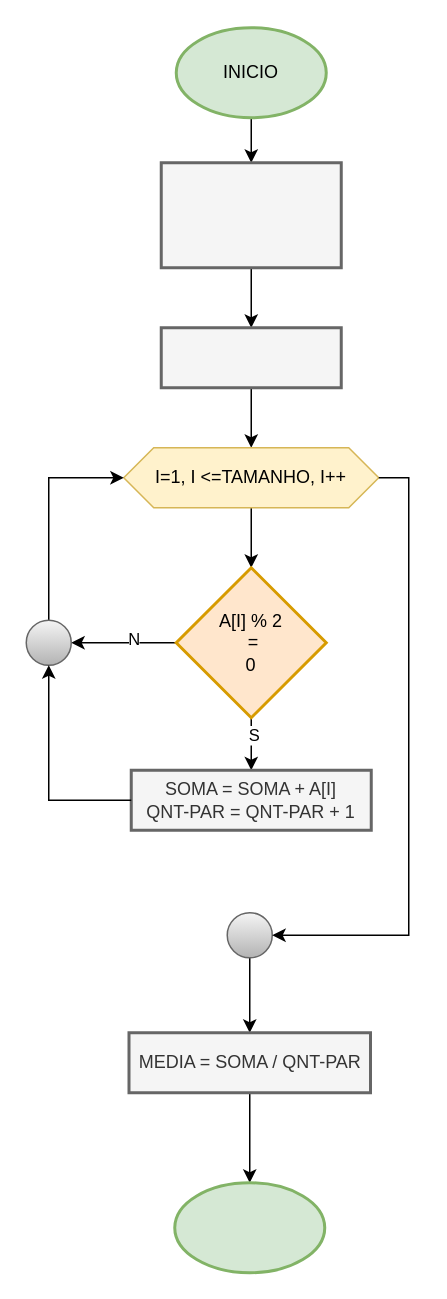
This 447x1299 diagram has some shape labels left out. The centre of each missing label's shape, as x and y in pixels:
"A[1, 4, 5, 6, 7] SOMA = 0 QNT-PAR = 0 MEDIA = 0" belongs at point (250, 214).
"CALCULA TAMANHO" belongs at point (250, 357).
"FIM" belongs at point (249, 1227).
